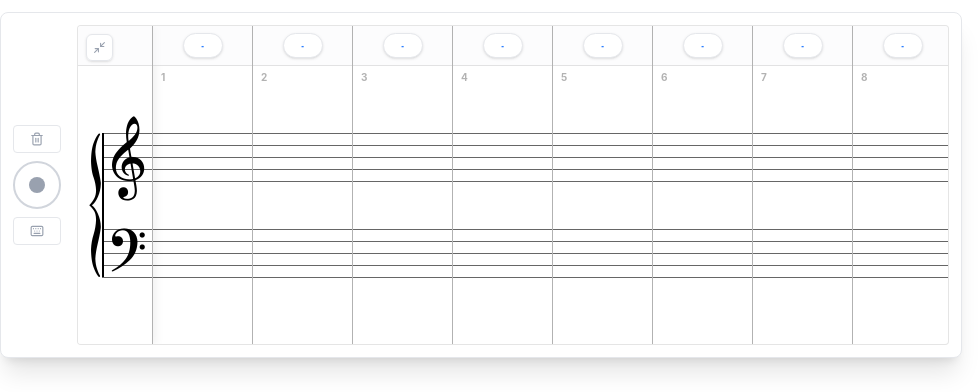
it: StepSequencer Component UI & Copy Instructions › Phase 2 TDD Checkpoint 2: Given isExpanded === true, When the minimize button is clicked, Assert container height reverts back to h-[140px]
Click the button titled "Collapse Timeline": [100, 48] box x1=86 y1=34 x2=113 y2=61
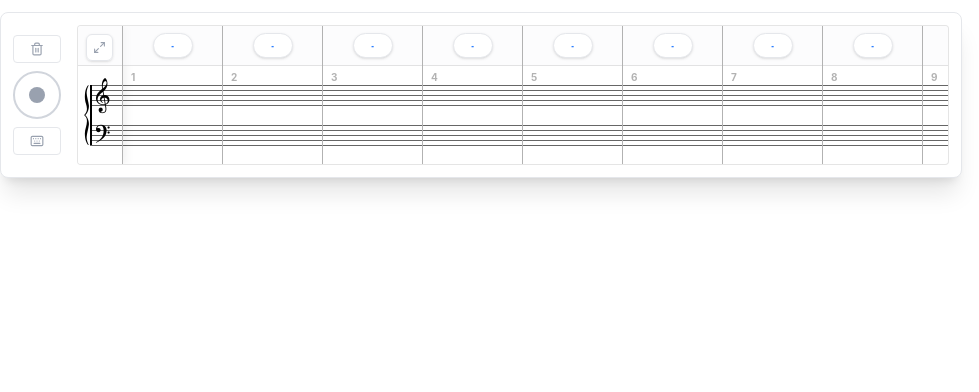
Result: the button titled "Expand Timeline" is shown at x1=86 y1=34 x2=113 y2=61
